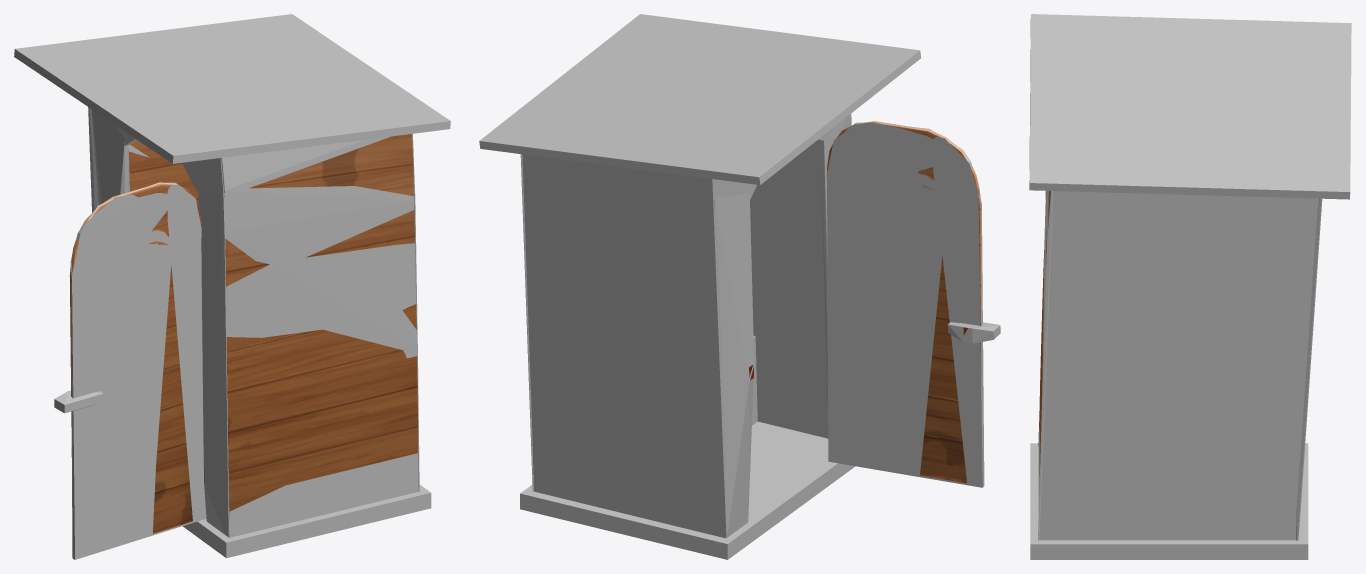
File: SM_ToiletWooden01.fbx
The picture shows the model from 3 angles, left to right: view 1: azimuth 30°, elevation 25°; view 2: azimuth 150°, elevation 25°; view 3: azimuth 270°, elevation 25°; orthographic projection.
Parts seen in each view (by area): view 1: SM_ToiletWooden01_ConvexHulls, SM_ToiletWooden01; view 2: SM_ToiletWooden01_ConvexHulls, SM_ToiletWooden01; view 3: SM_ToiletWooden01_ConvexHulls, SM_ToiletWooden01.
Part boxes in pixels (left/top/right/bottom): SM_ToiletWooden01_ConvexHulls: left=14, top=14, right=450, bottom=559; SM_ToiletWooden01: left=69, top=134, right=417, bottom=533; SM_ToiletWooden01_ConvexHulls: left=479, top=14, right=1000, bottom=559; SM_ToiletWooden01: left=714, top=121, right=981, bottom=483; SM_ToiletWooden01_ConvexHulls: left=1029, top=14, right=1351, bottom=559; SM_ToiletWooden01: left=1039, top=191, right=1050, bottom=475.
Size of the model in its own units: 227 by 168 by 241.
Materials: 2 (1 with a texture image).
